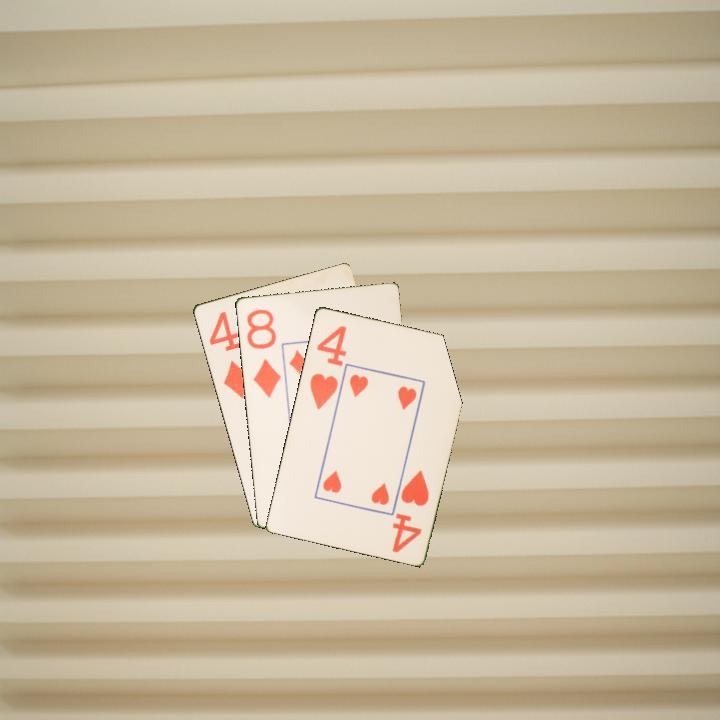4d: (205, 307, 253, 401)
4h: (388, 466, 432, 555), (306, 322, 349, 412)
8d: (243, 305, 283, 401)
